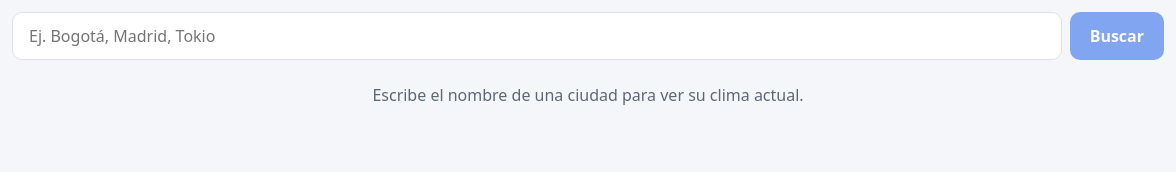
WeatherApp › muestra un error cuando la ciudad no existe
Type "Xyzabc" into the field named "ciudad".
click(537, 36); type("Xyzabc")  # box [12,12,1062,60]
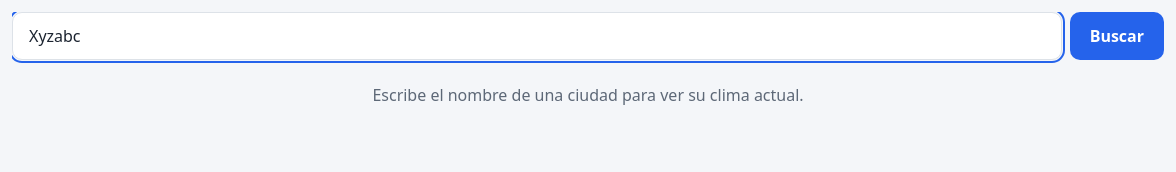
Click the button "Buscar".
click(1117, 36)  # box [1070,12,1164,60]
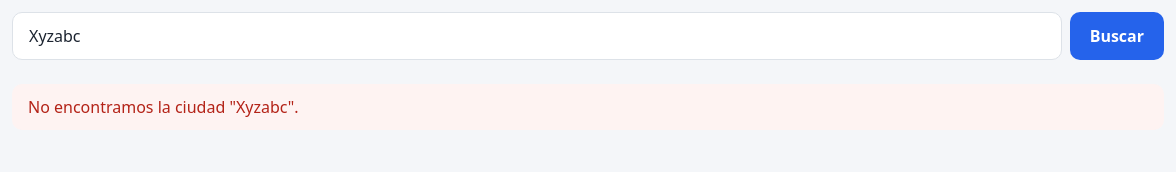
Expected: the message reads "No encontramos la ciudad \"Xyzabc\".", [28,96,299,118]
